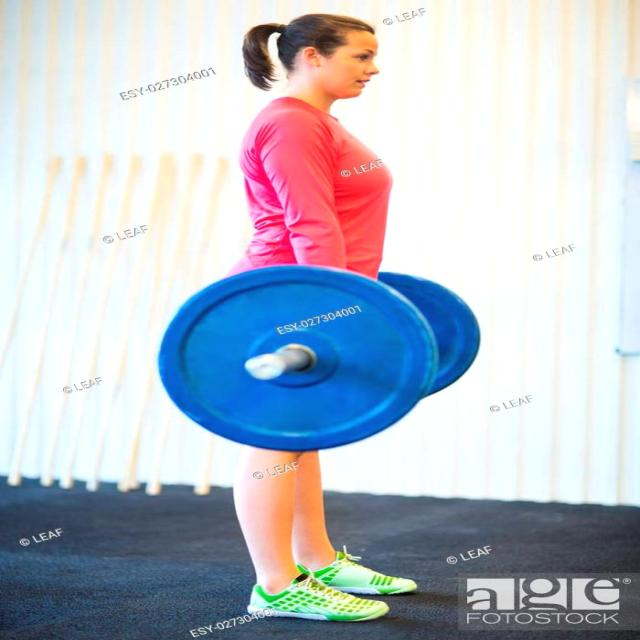barbell_plate_side: (156, 264, 237, 451), (400, 264, 481, 451)
